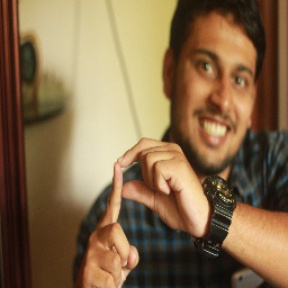P: (75, 137, 204, 288)
